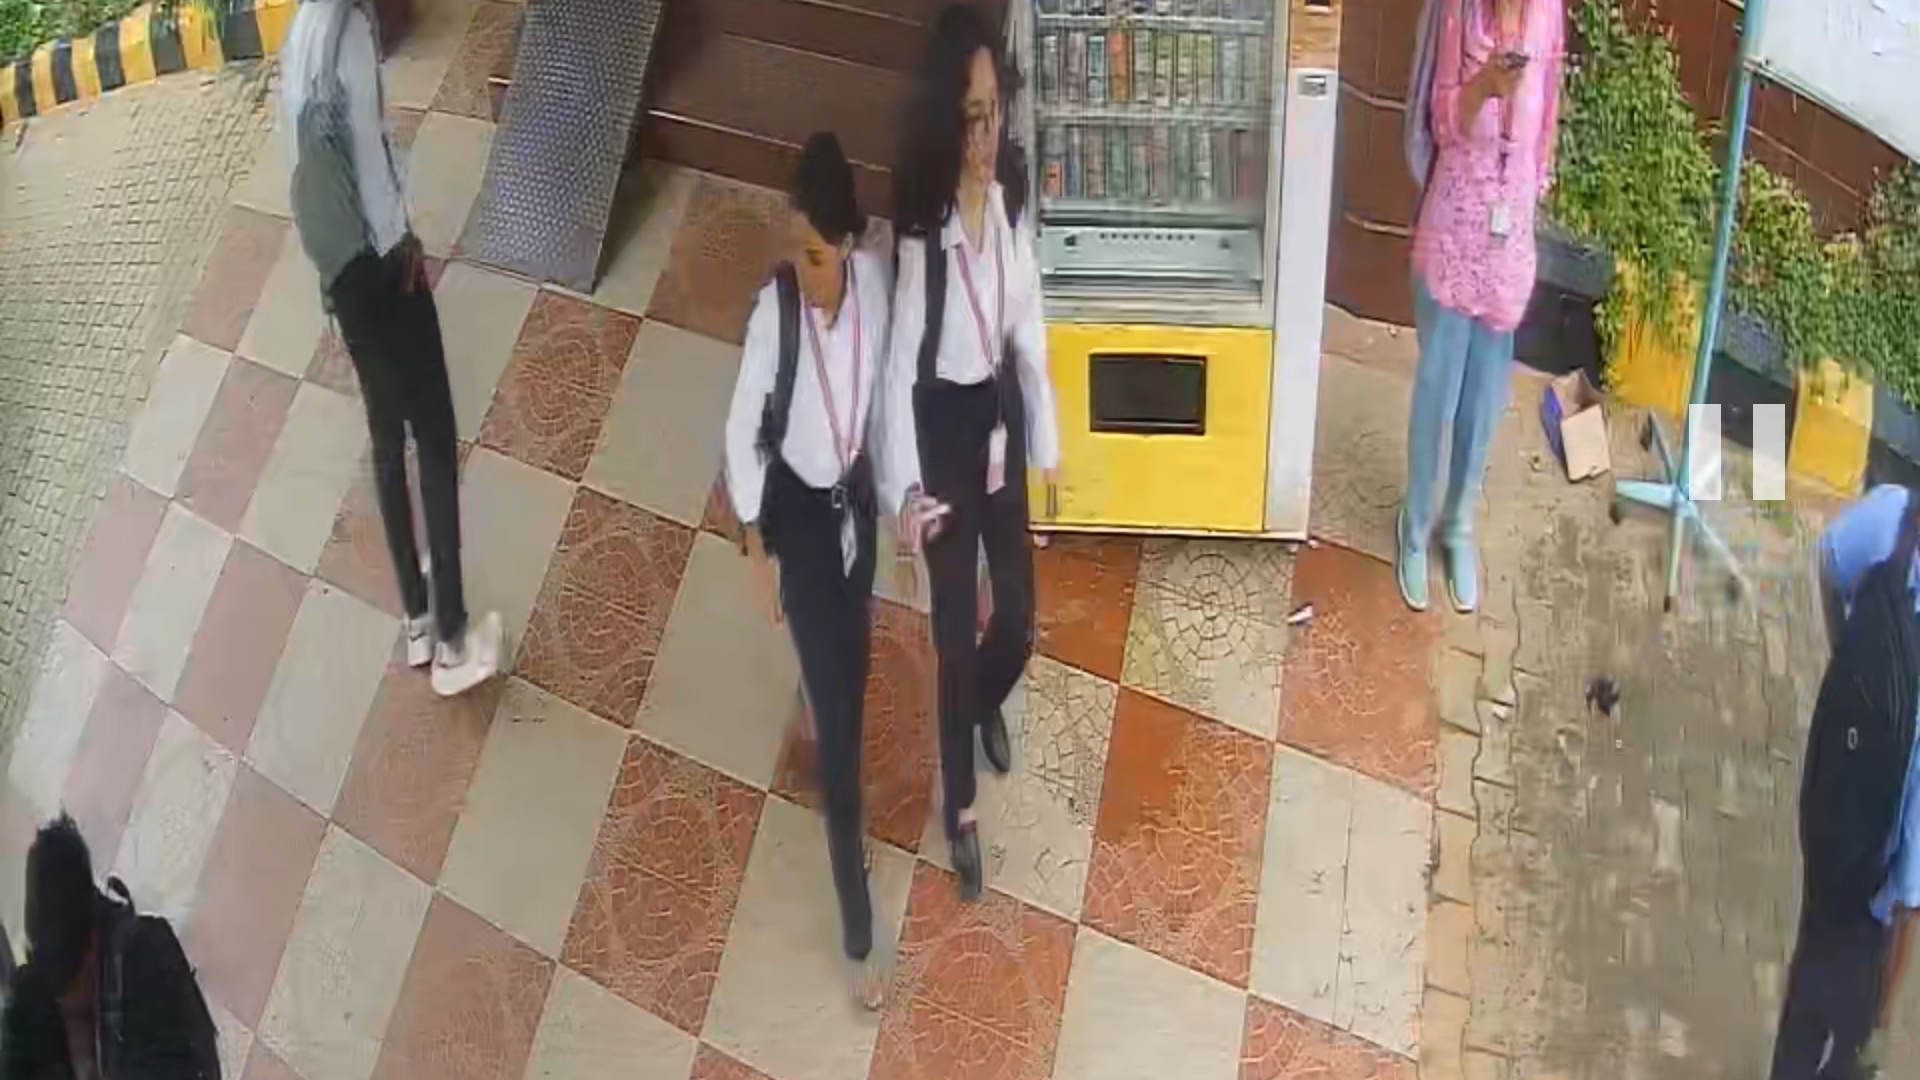not intruder: (716, 116, 906, 986), (873, 16, 1062, 880)
